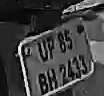2: (58, 62, 71, 86)
3: (72, 57, 83, 81), (79, 54, 88, 75)
4: (66, 60, 76, 82)
5: (64, 28, 73, 50)
8: (57, 32, 67, 54)
B: (38, 72, 50, 95)
H: (47, 68, 60, 91)
P: (46, 36, 57, 60)
U: (38, 41, 49, 62)
